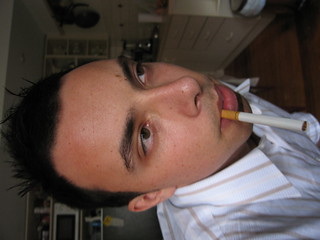cigarette: (219, 107, 312, 137)
